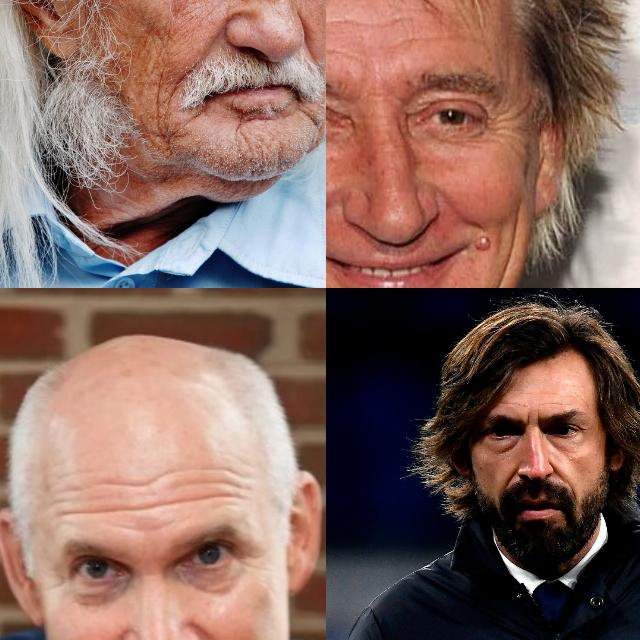chin: (232, 108, 270, 130), (298, 102, 326, 130)
crows_feet: (487, 102, 519, 146)
forehead: (202, 462, 248, 506), (112, 496, 184, 522), (338, 10, 412, 34), (108, 467, 160, 497), (59, 494, 107, 526), (172, 488, 210, 514), (394, 30, 441, 48), (326, 43, 364, 64), (496, 400, 524, 408), (542, 399, 568, 407)
frown_line: (526, 412, 542, 426)
gummy_smile: (169, 55, 201, 99), (548, 461, 566, 481), (504, 466, 518, 484)
masseter: (144, 66, 168, 136), (496, 218, 520, 282)
